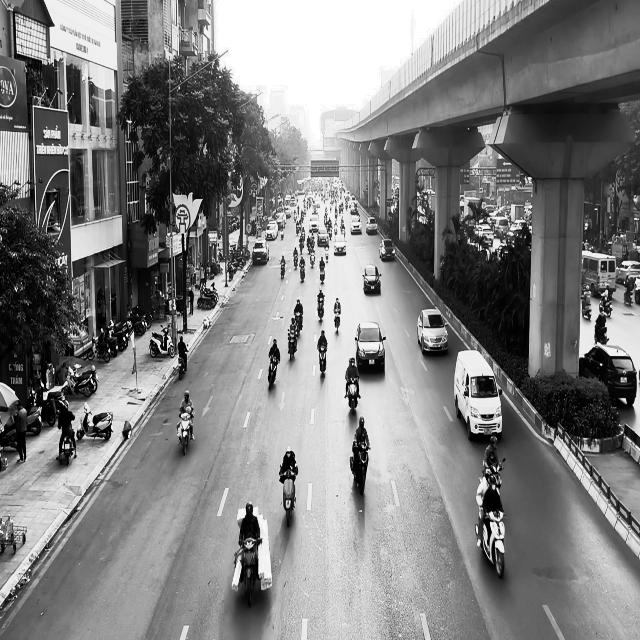bus: (582, 249, 616, 297)
car: (579, 343, 637, 407), (354, 321, 386, 372), (417, 308, 448, 354), (362, 264, 382, 294), (252, 238, 269, 265), (379, 238, 395, 261), (366, 216, 378, 235)
motorbike: (475, 505, 506, 578), (76, 401, 113, 440), (278, 466, 298, 527), (350, 439, 370, 495), (177, 408, 194, 455), (59, 425, 77, 466), (346, 376, 359, 409), (267, 355, 279, 389), (287, 328, 297, 361), (317, 342, 327, 374), (178, 348, 188, 379), (316, 291, 325, 321), (334, 308, 341, 333), (280, 260, 285, 279)
